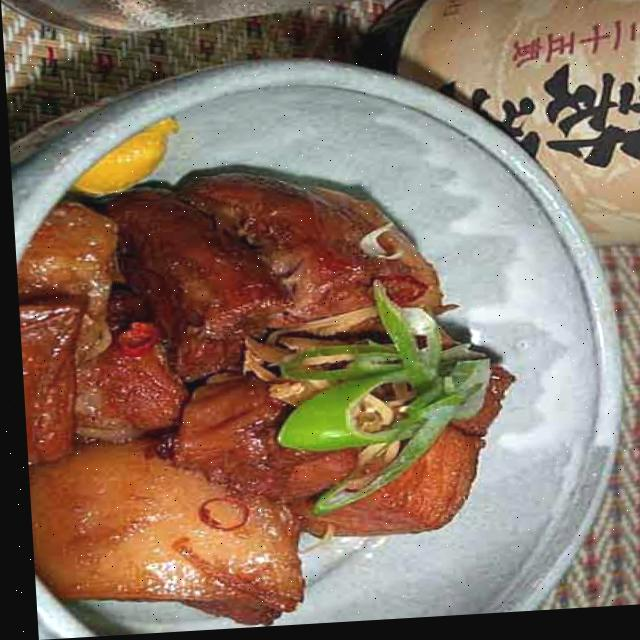猪肉菜式: (6, 99, 529, 640)
